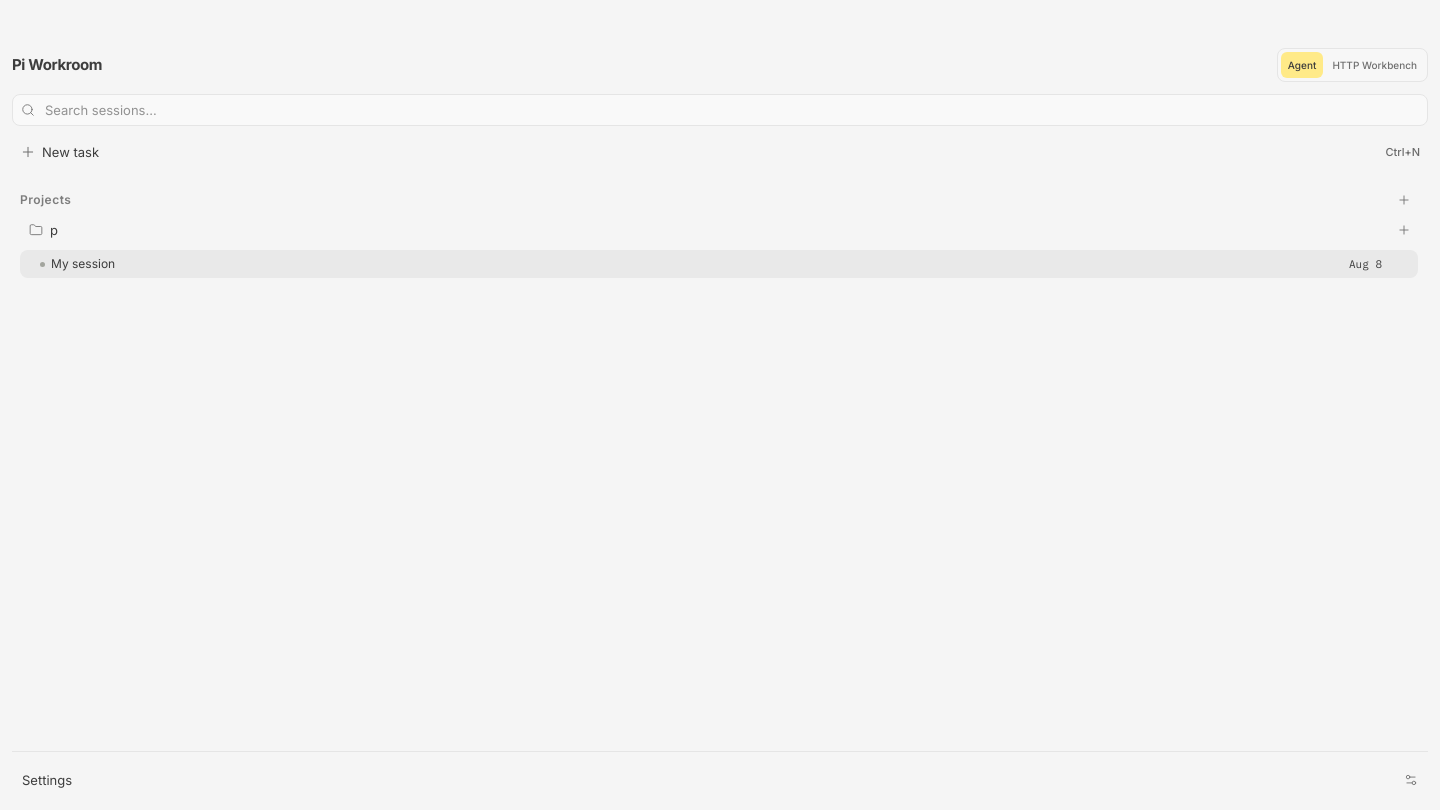
Test case: SessionSidebar › hide removes session from main list until Show hidden
Right-click the text "My session" at (83, 264), box [51,256,115,271]
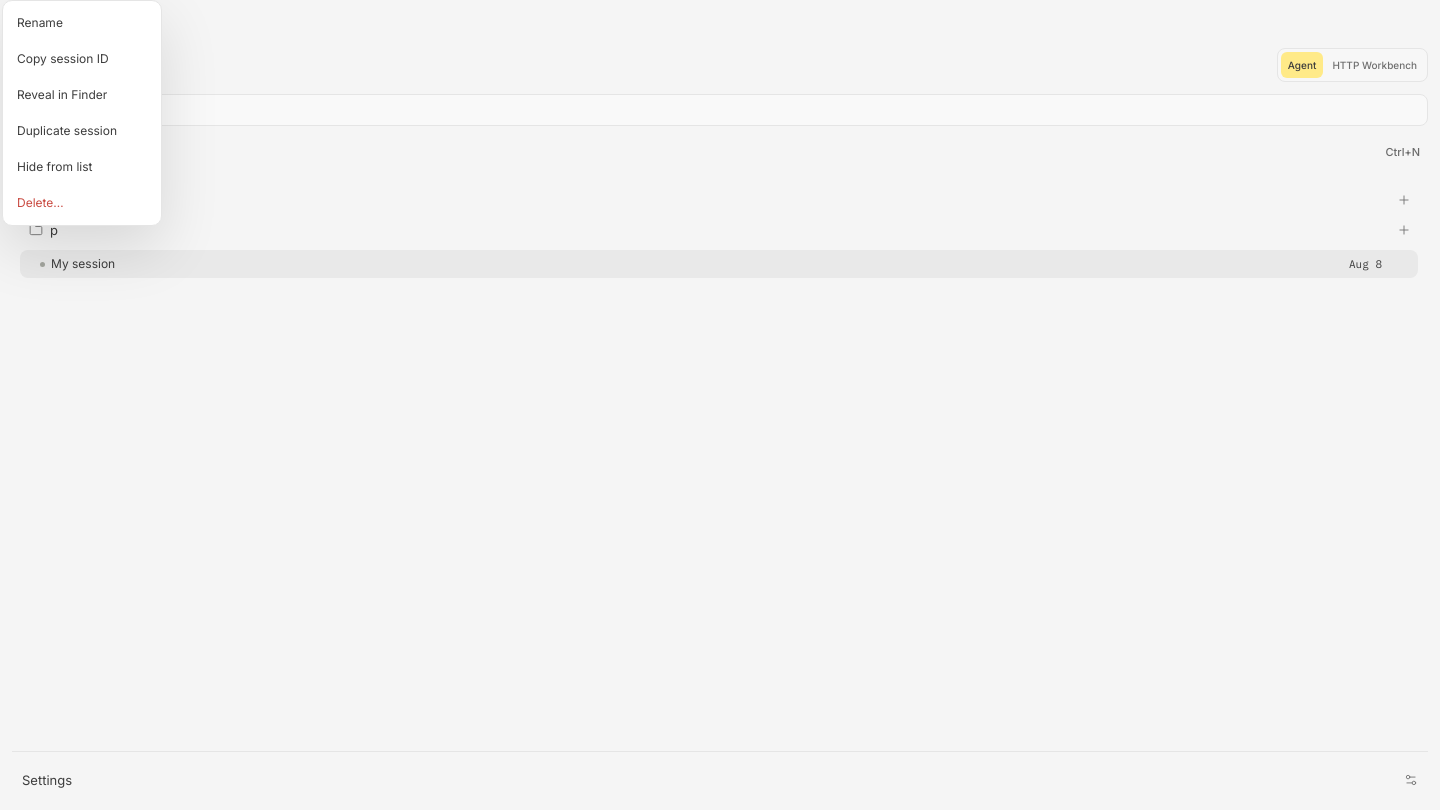
Click the menu item "Hide from list" at (55, 166), box [17,159,92,174]
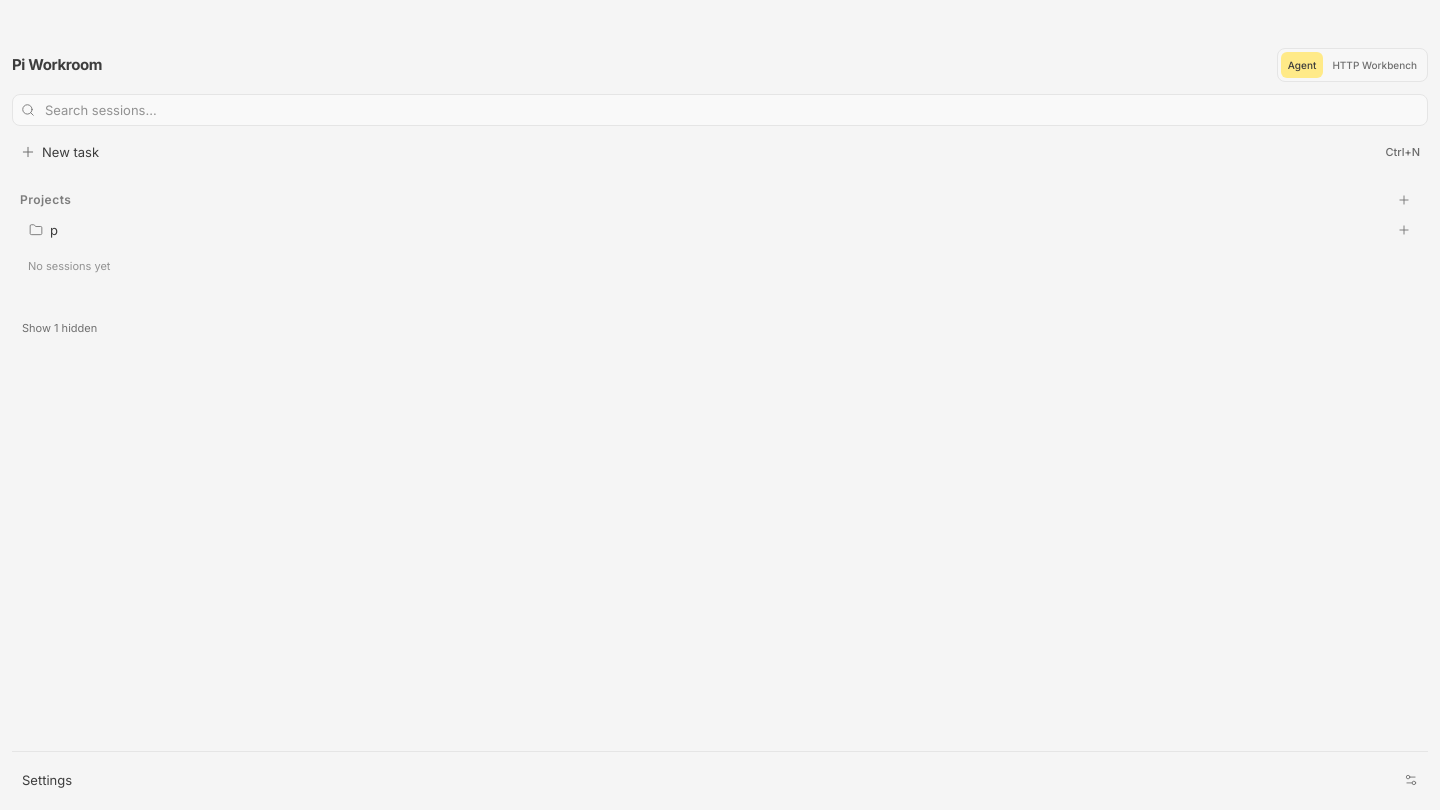
expect the button "My session" is gone: met
Click the button "Show 1 hidden" at (60, 328), box [12,312,1426,344]
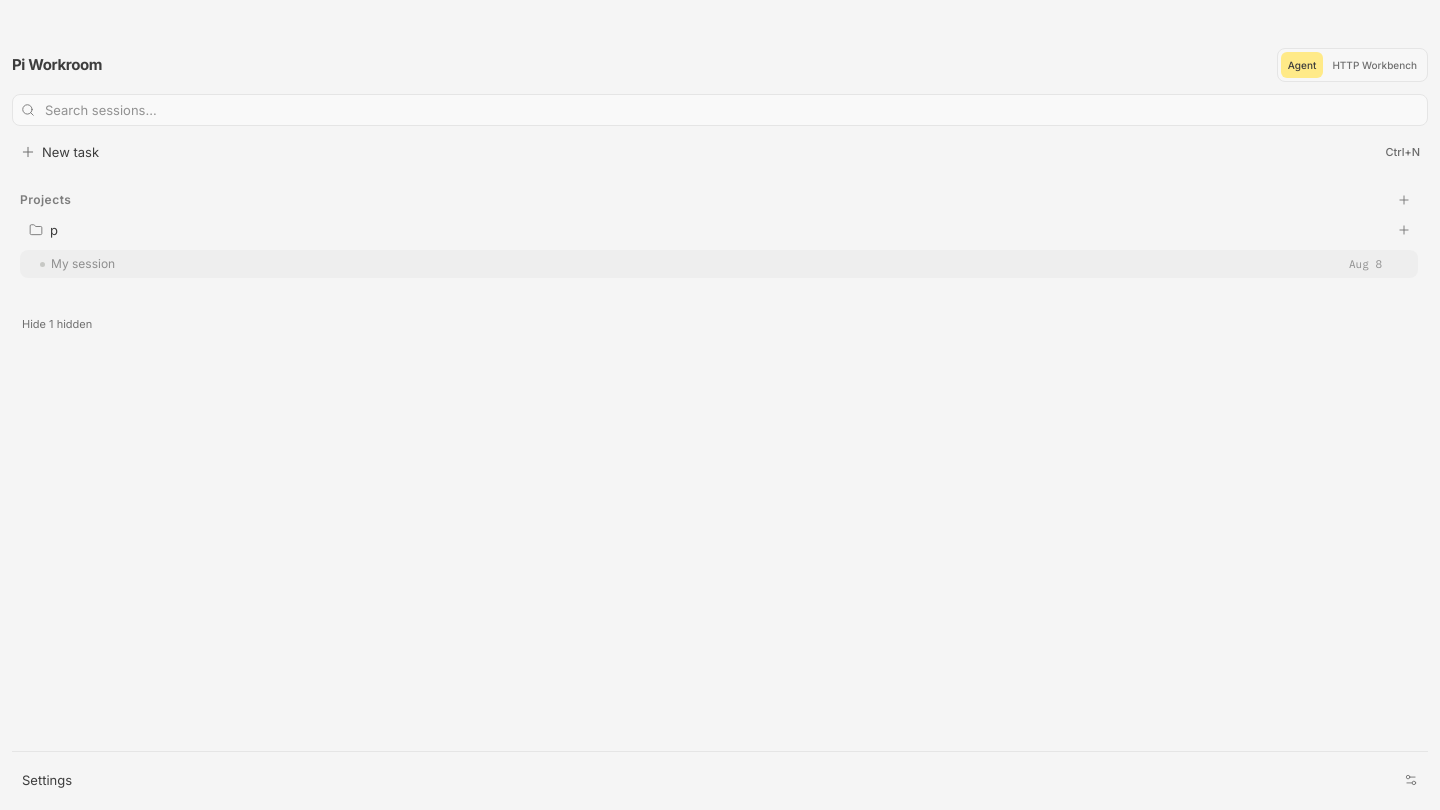
expect the text "My session" is shown: met, box [51,256,115,271]
